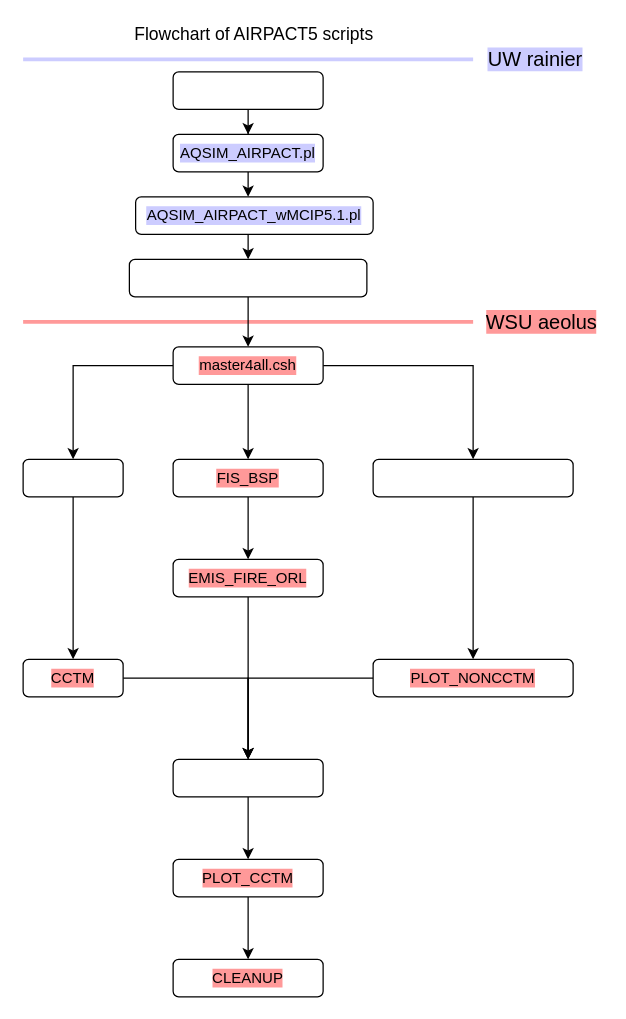
This 626x1019 diagram has some shape labels left out. The box of each missing label's shape, as (x1, y1, x2, y2) in pixels:
AP5_mcip5.1_37_DAY1.csh: (128, 258, 367, 297)
Daily WRF runs: (172, 71, 323, 109)
MEGAN_PARALLEL: (372, 458, 573, 497)
POSTCCTM: (172, 758, 323, 797)
PRECCTM: (22, 458, 123, 497)
